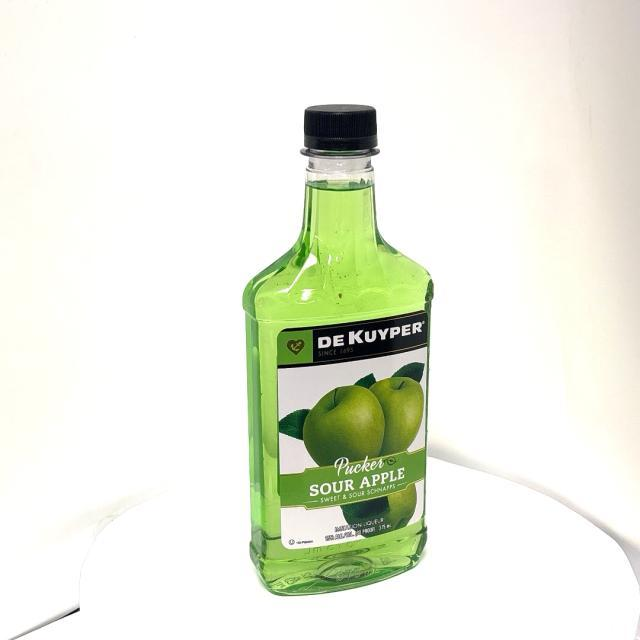DEKUYPER APPLE PUCKER 375ML: (240, 104, 435, 600), (240, 104, 434, 600)
